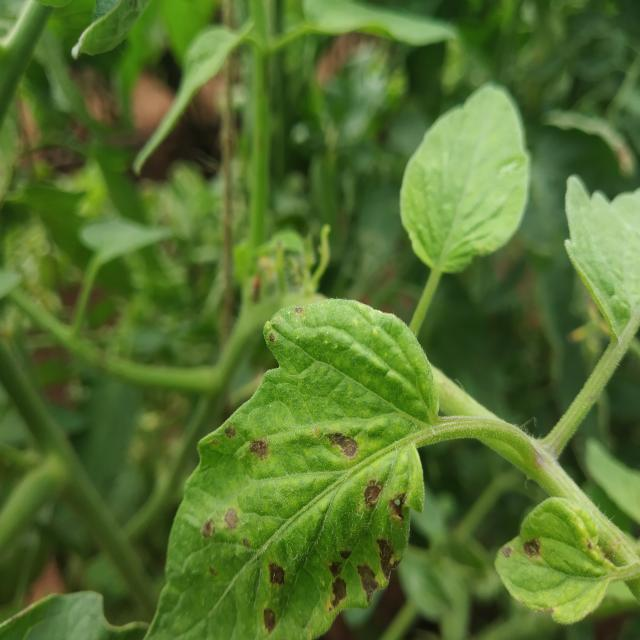Tomato mosaic virus leaf: (112, 297, 450, 640), (492, 493, 614, 629)
